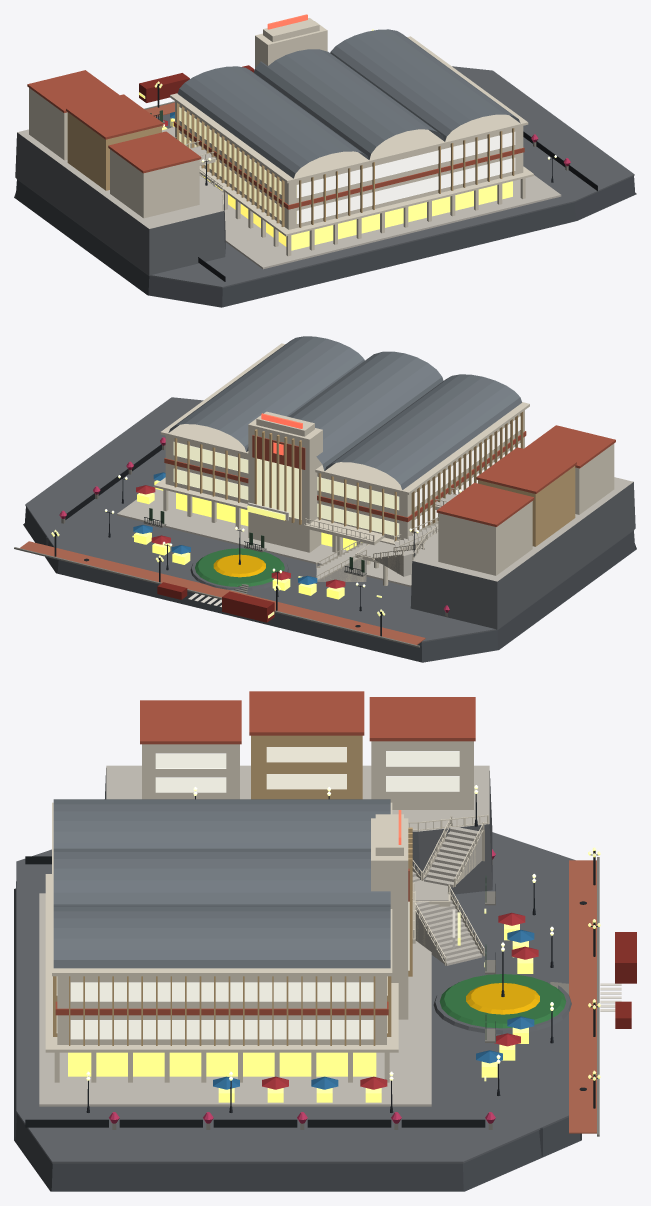
The model's file is lm_05_cho_da_lat_hoa_binh.glb.
3 renders of one model, top to bottom at view 1: azimuth 30°, elevation 25°; view 2: azimuth 150°, elevation 25°; view 3: azimuth 270°, elevation 25°, orthographic. The views are drawn at different scales.
Visible parts, largest first — view 1: MarketHall_Modernist_Concrete, MarketHall_Barrel_Vault_Roofs, Foundation_Skirt, Foundation_Plinth_Trim, HoaBinh_Slope_Retaining_Walls, MarketHall_Terracotta_Spandrels, MarketHall_Vertical_Louvers, Market_Forecourt_And_Sidewalks, MarketHall_Upper_Windows_Glow, MarketHall_Ground_Kiosks_Glow, Phase2_Vintage_Vehicles_Train_SwanBoat, Phase2_WroughtIron_Balconies_Railings_Manholes; view 2: MarketHall_Modernist_Concrete, MarketHall_Barrel_Vault_Roofs, Foundation_Plinth_Trim, HoaBinh_Slope_Retaining_Walls, Foundation_Skirt, MarketHall_Terracotta_Spandrels, MarketHall_Vertical_Louvers, MarketHall_Upper_Windows_Glow, Market_Forecourt_And_Sidewalks, Phase2_Interlocking_Brick_Sidewalk, MarketHall_Ground_Kiosks_Glow, Roundabout_Island_Lawn (+9 smaller); view 3: MarketHall_Barrel_Vault_Roofs, Foundation_Plinth_Trim, MarketHall_Modernist_Concrete, Market_Forecourt_And_Sidewalks, MarketHall_Upper_Windows_Glow, MarketHall_Terracotta_Spandrels, Foundation_Skirt, MarketHall_Vertical_Louvers, MarketHall_Ground_Kiosks_Glow, Phase2_Interlocking_Brick_Sidewalk, Phase2_WroughtIron_Balconies_Railings_Manholes, HoaBinh_Slope_Retaining_Walls (+8 smaller).
Boxes of the visible parts, x1=… form: MarketHall_Modernist_Concrete: x1=29, y1=18, x2=533, y2=256; MarketHall_Barrel_Vault_Roofs: x1=177, y1=29, x2=520, y2=178; Foundation_Skirt: x1=14, y1=176, x2=636, y2=307; Foundation_Plinth_Trim: x1=16, y1=66, x2=634, y2=288; HoaBinh_Slope_Retaining_Walls: x1=15, y1=132, x2=225, y2=275; MarketHall_Terracotta_Spandrels: x1=27, y1=70, x2=524, y2=209; MarketHall_Vertical_Louvers: x1=67, y1=102, x2=514, y2=227; Market_Forecourt_And_Sidewalks: x1=17, y1=127, x2=561, y2=269; MarketHall_Upper_Windows_Glow: x1=179, y1=107, x2=515, y2=223; MarketHall_Ground_Kiosks_Glow: x1=162, y1=118, x2=512, y2=250; Phase2_Vintage_Vehicles_Train_SwanBoat: x1=139, y1=65, x2=254, y2=102; Phase2_WroughtIron_Balconies_Railings_Manholes: x1=153, y1=84, x2=597, y2=281; MarketHall_Modernist_Concrete: x1=154, y1=343, x2=614, y2=585; MarketHall_Barrel_Vault_Roofs: x1=168, y1=336, x2=521, y2=489; Foundation_Plinth_Trim: x1=25, y1=397, x2=634, y2=642; HoaBinh_Slope_Retaining_Walls: x1=190, y1=482, x2=635, y2=629; Foundation_Skirt: x1=23, y1=507, x2=636, y2=662; MarketHall_Terracotta_Spandrels: x1=164, y1=425, x2=615, y2=526; MarketHall_Vertical_Louvers: x1=174, y1=411, x2=575, y2=546; MarketHall_Upper_Windows_Glow: x1=173, y1=416, x2=520, y2=536; Market_Forecourt_And_Sidewalks: x1=117, y1=477, x2=633, y2=587; Phase2_Interlocking_Brick_Sidewalk: x1=20, y1=541, x2=425, y2=644; MarketHall_Ground_Kiosks_Glow: x1=134, y1=480, x2=361, y2=599; Roundabout_Island_Lawn: x1=195, y1=548, x2=284, y2=586; MarketHall_Barrel_Vault_Roofs: x1=53, y1=799, x2=390, y2=968; Foundation_Plinth_Trim: x1=16, y1=832, x2=575, y2=1163; MarketHall_Modernist_Concrete: x1=45, y1=741, x2=473, y2=1082; Market_Forecourt_And_Sidewalks: x1=39, y1=765, x2=489, y2=1106; MarketHall_Upper_Windows_Glow: x1=56, y1=747, x2=459, y2=1039; MarketHall_Terracotta_Spandrels: x1=55, y1=691, x2=475, y2=1015; Foundation_Skirt: x1=14, y1=881, x2=581, y2=1191; MarketHall_Vertical_Louvers: x1=53, y1=735, x2=412, y2=1045; MarketHall_Ground_Kiosks_Glow: x1=68, y1=924, x2=533, y2=1102; Phase2_Interlocking_Brick_Sidewalk: x1=569, y1=860, x2=596, y2=1133; Phase2_WroughtIron_Balconies_Railings_Manholes: x1=25, y1=851, x2=598, y2=1127; HoaBinh_Slope_Retaining_Walls: x1=105, y1=768, x2=571, y2=1034.
Bounding box in the file's own units: 88.41 × 25.5 × 69.88.
